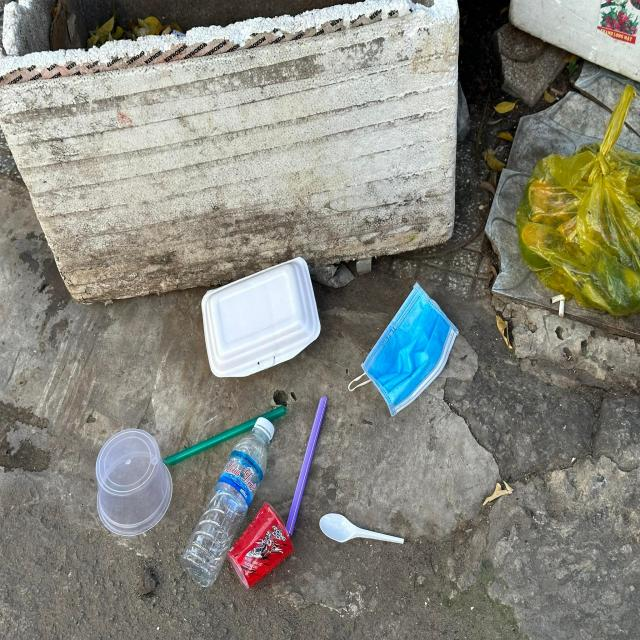bottle: (180, 418, 274, 588)
drinking straw: (160, 404, 288, 468), (286, 396, 328, 535)
foam box: (202, 258, 321, 378)
mask: (346, 282, 459, 420)
plastic holder: (96, 432, 173, 538)
plastic utensil: (319, 514, 404, 550)
trash bag: (515, 81, 640, 316)
